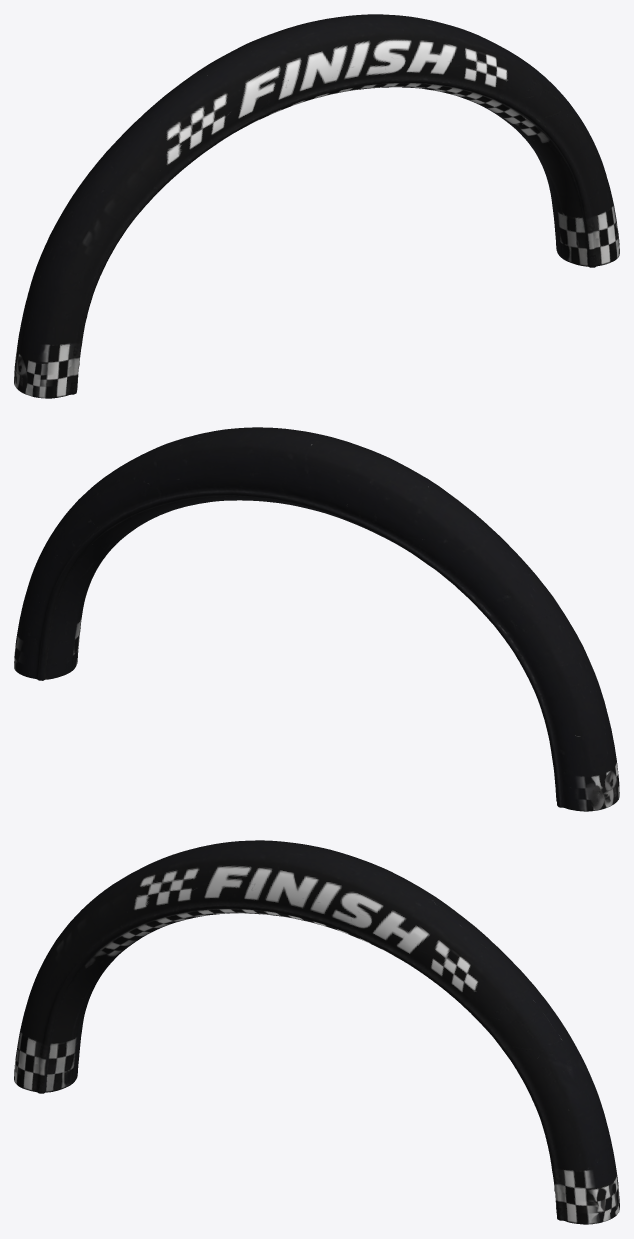
Rendered from Goal.fbx.
3 views of the same model, one above another, from view 1: azimuth 30°, elevation 25°; view 2: azimuth 150°, elevation 25°; view 3: azimuth 330°, elevation 25° (orthographic).
Parts seen in each view (by area): view 1: Mesh_0; view 2: Mesh_0; view 3: Mesh_0.
Boxes of the visible parts, x1=… form: Mesh_0: x1=14, y1=14, x2=619, y2=398; Mesh_0: x1=14, y1=427, x2=619, y2=811; Mesh_0: x1=14, y1=840, x2=619, y2=1224.
Bounding box in the file's own units: 190 × 89.28 × 19.86.
1 material, 1 textured.
